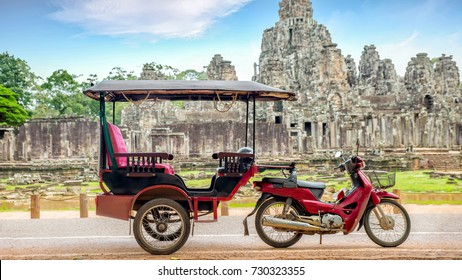motorbike: (251, 139, 410, 248)
